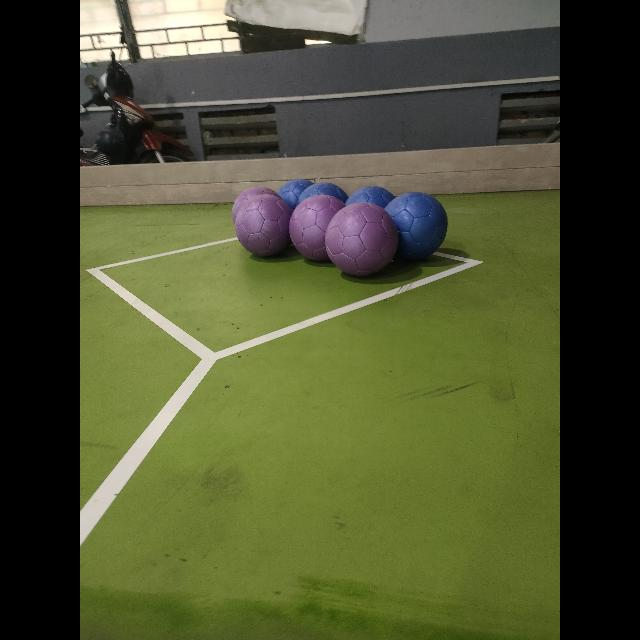B: (386, 192, 448, 260), (350, 186, 402, 242), (296, 179, 348, 227), (278, 178, 314, 210)
P: (326, 202, 398, 276), (290, 195, 348, 262), (234, 196, 292, 256)
